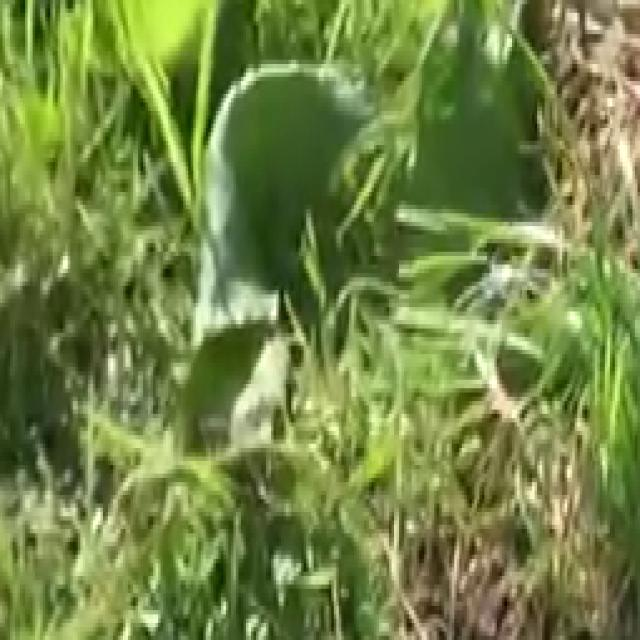organic waste: (115, 0, 447, 542)
